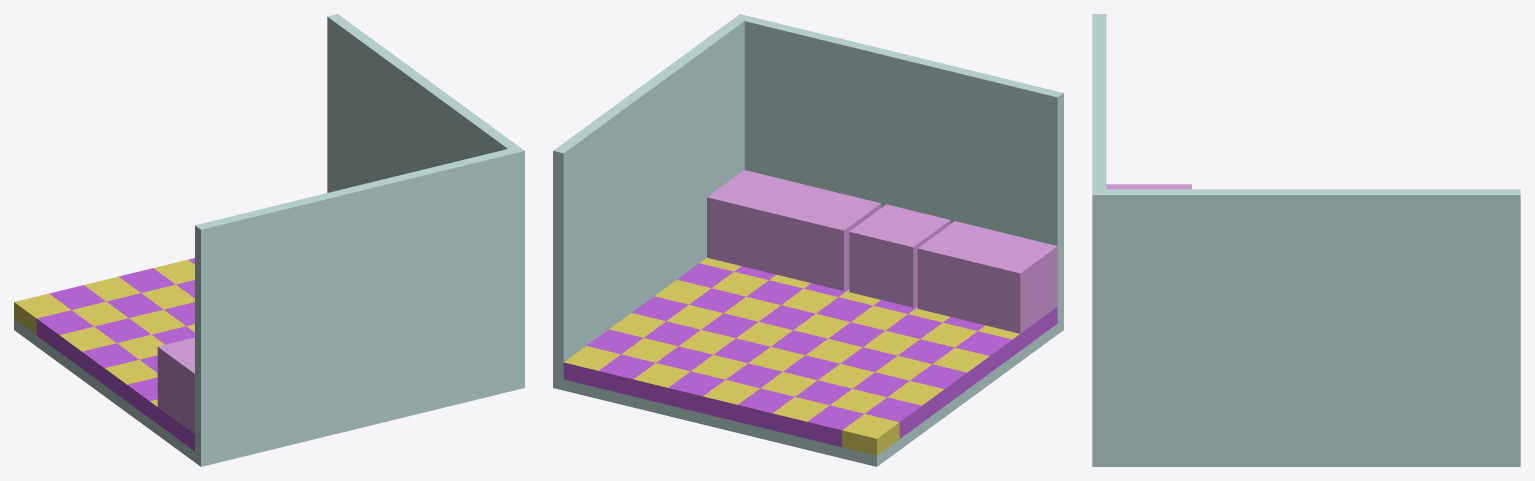
Rendered from bb2kitchen.dae.
3 views of the same model, side by side, from view 1: azimuth 30°, elevation 25°; view 2: azimuth 150°, elevation 25°; view 3: azimuth 270°, elevation 25° (orthographic). The views are drawn at different scales.
Parts seen in each view (by area): view 1: Plane, Plane.001, Plane.002; view 2: Plane, Plane.001, Plane.002; view 3: Plane, Plane.002.
Boxes of the visible parts, x1=… form: Plane: x1=14, y1=14, x2=524, y2=466; Plane.001: x1=14, y1=258, x2=194, y2=450; Plane.002: x1=157, y1=337, x2=194, y2=433; Plane: x1=553, y1=14, x2=1063, y2=466; Plane.001: x1=563, y1=257, x2=1057, y2=455; Plane.002: x1=707, y1=170, x2=1057, y2=333; Plane: x1=1092, y1=14, x2=1520, y2=466; Plane.002: x1=1106, y1=184, x2=1191, y2=189.
Size of the model in its own units: 10 by 10 by 7.
